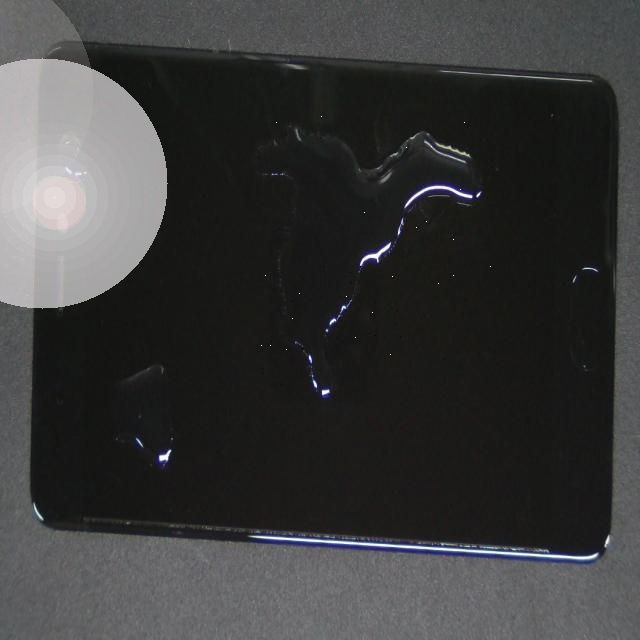oil: (232, 45, 601, 187), (96, 153, 206, 534)
